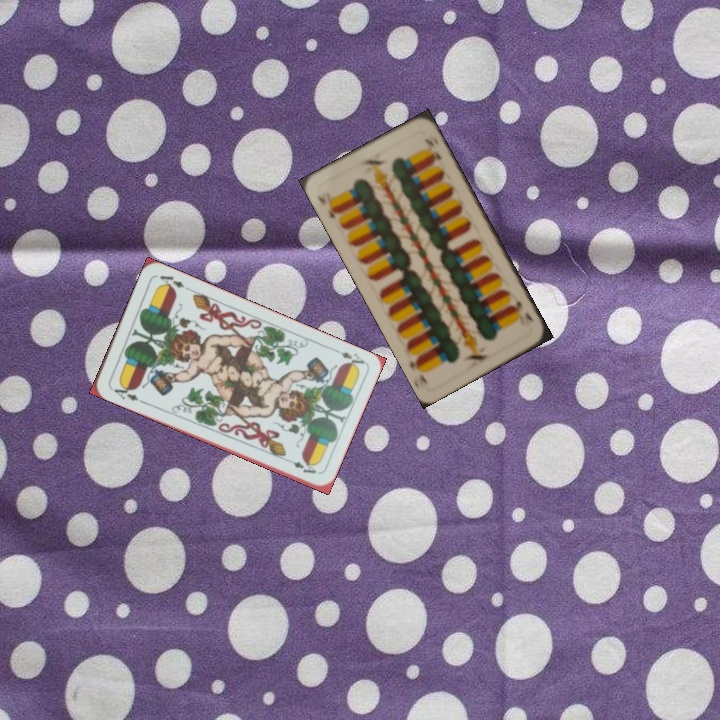E10: (313, 191, 342, 222), (509, 295, 536, 324)
EA: (328, 344, 367, 372), (107, 380, 141, 403)
